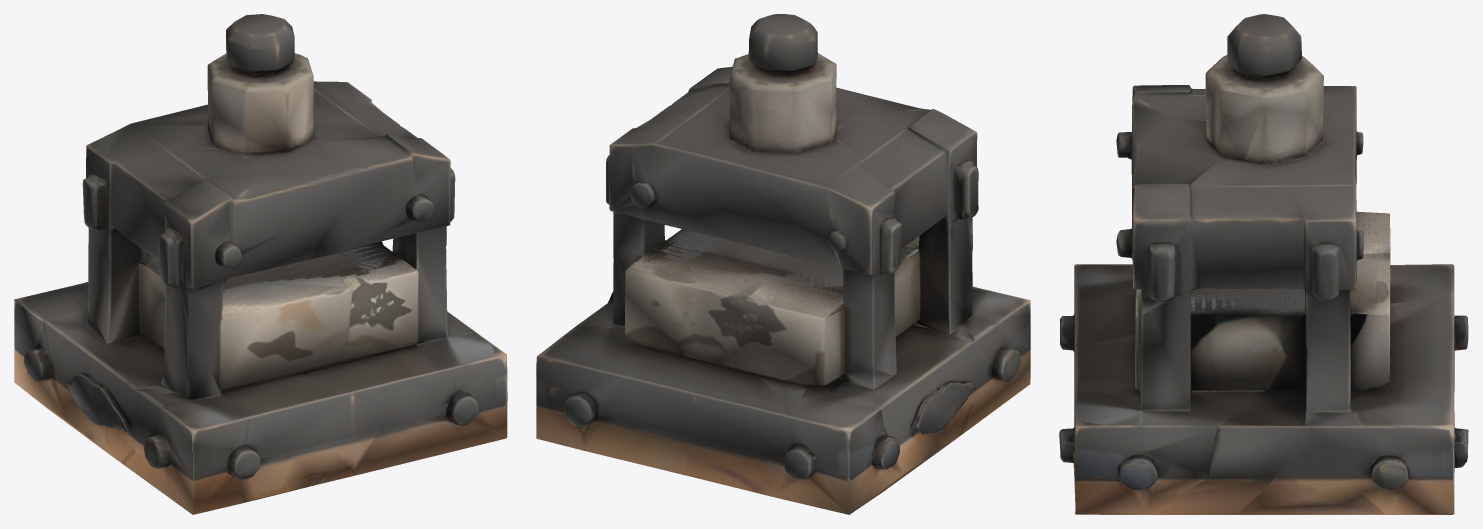
Rendered from crusher_head.glb.
The picture shows the model from 3 angles, left to right: view 1: azimuth 30°, elevation 25°; view 2: azimuth 150°, elevation 25°; view 3: azimuth 270°, elevation 25°; orthographic projection. The views are drawn at different scales.
Bounding box in the file's own units: 1.82 × 2 × 1.81.
Materials: 1 (1 with a texture image).
